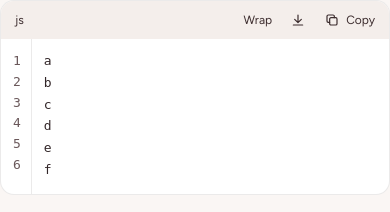
Test case: code blocks: Download, Wrap, line numbers › names the download for its language; numbers blocks of five lines or more, but not while wrapped
Check: the button named "Download snippet.js" is shown, box top-left (282, 5), bottom-right (314, 35)
Click the button with aria-label "Wrap long lines" at (258, 20), box top-left (235, 5), bottom-right (280, 35)
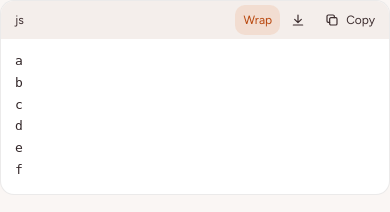
Check: the text "a b c d e f" is shown, box top-left (15, 53), bottom-right (23, 177)
Check: the element with class "is-wrapped" is shown
